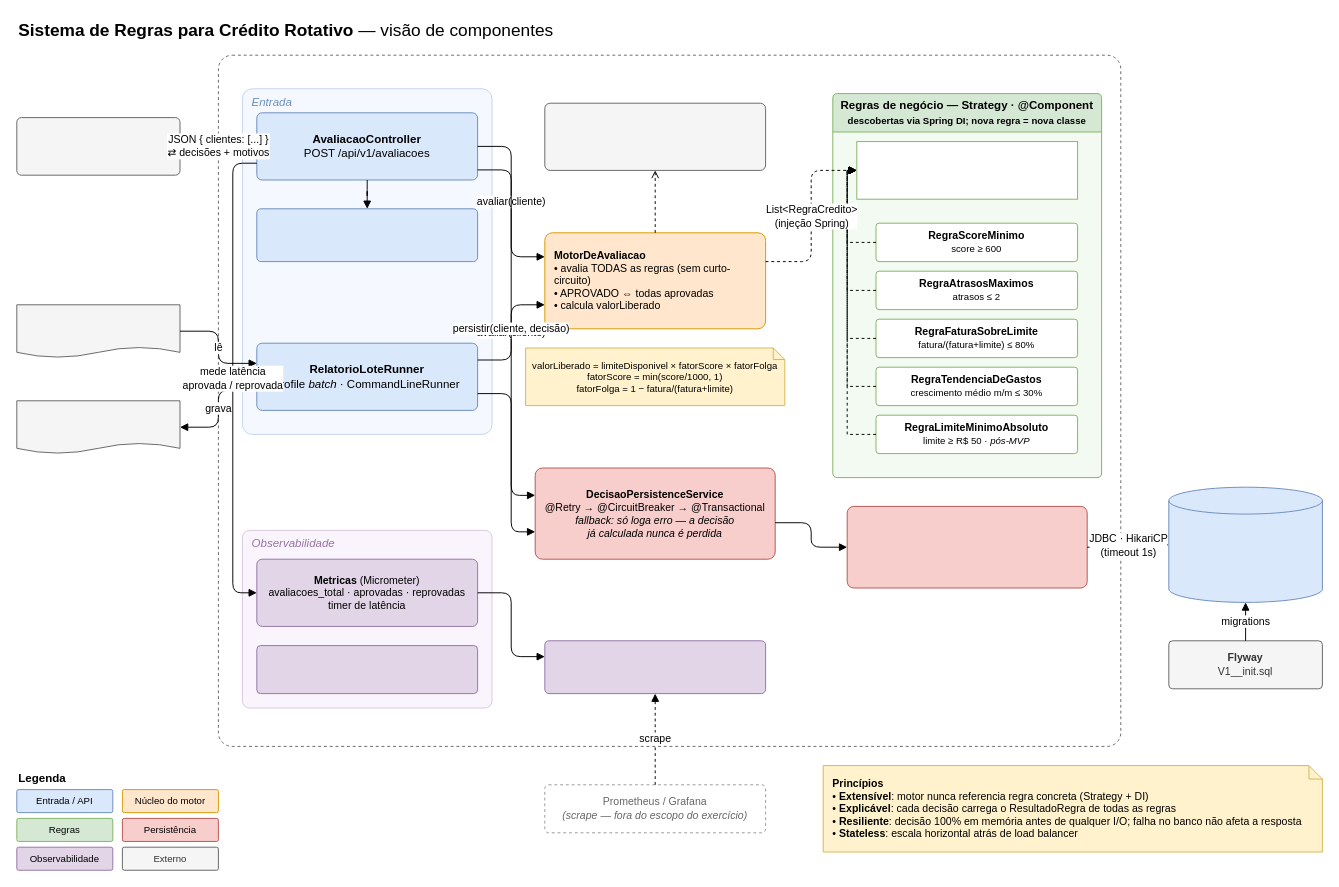
The diagram is 1339 pixels wide and 887 high, and some of its shapes have lost their labels. The shapes that lost their labels are listed below. From the top down, each one's box as (x1, y1, x2, y2) in pixels, then its label:
(16, 117, 180, 175): Cliente HTTP curl / Insomnia
(544, 102, 766, 170): Domínio Cliente · DecisaoAvaliacao ResultadoRegra · StatusAvaliacao
(856, 141, 1078, 199): «interface» RegraCredito avaliar(Cliente): ResultadoRegra
(256, 208, 478, 262): AvaliacaoDtos + ClienteInputMapper validação → Cliente (400 se inválido)
(16, 304, 180, 358): fixtures/ clientes-demo.json
(217, 54, 1121, 746): Aplicação Spring Boot (Kotlin 2.0 / JVM 21 · Spring Boot 4.1) — :8081
(16, 400, 180, 454): fixtures/ relatorio-demo.json
(846, 505, 1087, 588): Spring Data JPA ClienteRepository DecisaoRepository ResultadoRegraRepository
(1168, 486, 1322, 602): PostgreSQL 16 (Docker Compose) cliente · decisao_avaliacao resultado_regra
(256, 645, 478, 694): LogMasking CPF e valores mascarados (LGPD)
(544, 640, 766, 694): Spring Actuator /actuator/prometheus
